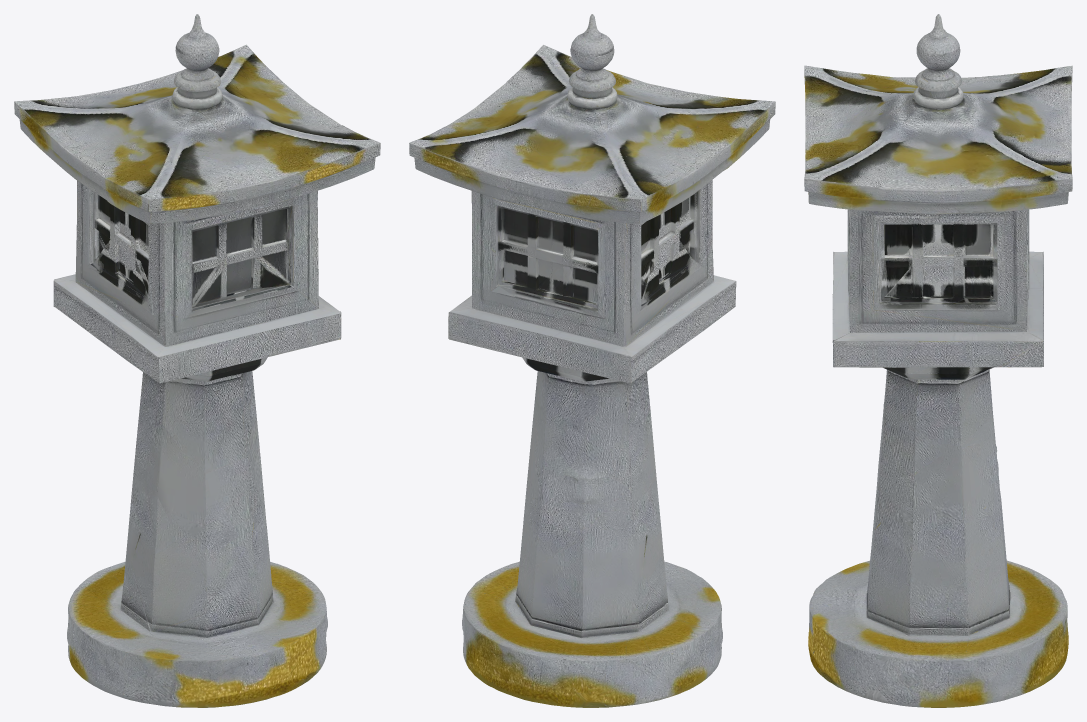
Rendered from lantern.glb.
3 views of the same model, side by side, from view 1: azimuth 30°, elevation 25°; view 2: azimuth 150°, elevation 25°; view 3: azimuth 270°, elevation 25° (orthographic).
Parts seen in each view (by area): view 1: Mesh_0; view 2: Mesh_0; view 3: Mesh_0.
Part boxes in pixels (x1,y1,x2,y2): Mesh_0: (14,14,380,707); Mesh_0: (409,14,775,707); Mesh_0: (804,14,1072,707).
Bounding box in the file's own units: 0.7225 × 1.9 × 0.7226.
1 material, 1 textured.
